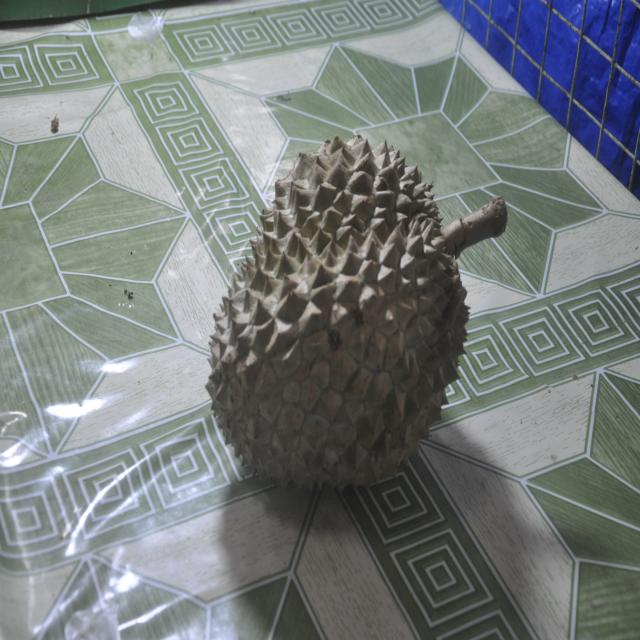mature: (207, 136, 506, 489)
